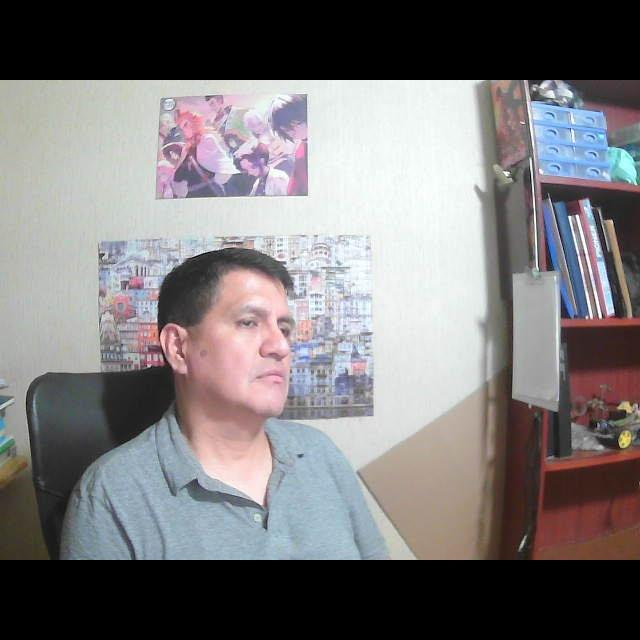cesar: (144, 239, 308, 447)
